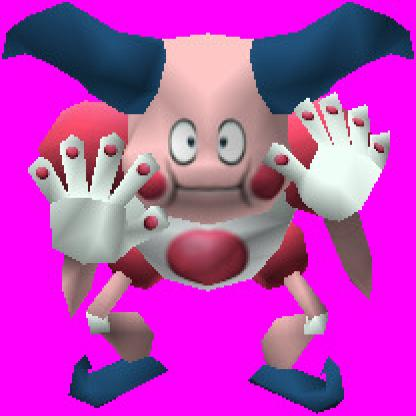Mr. Mime: (1, 1, 415, 415)
